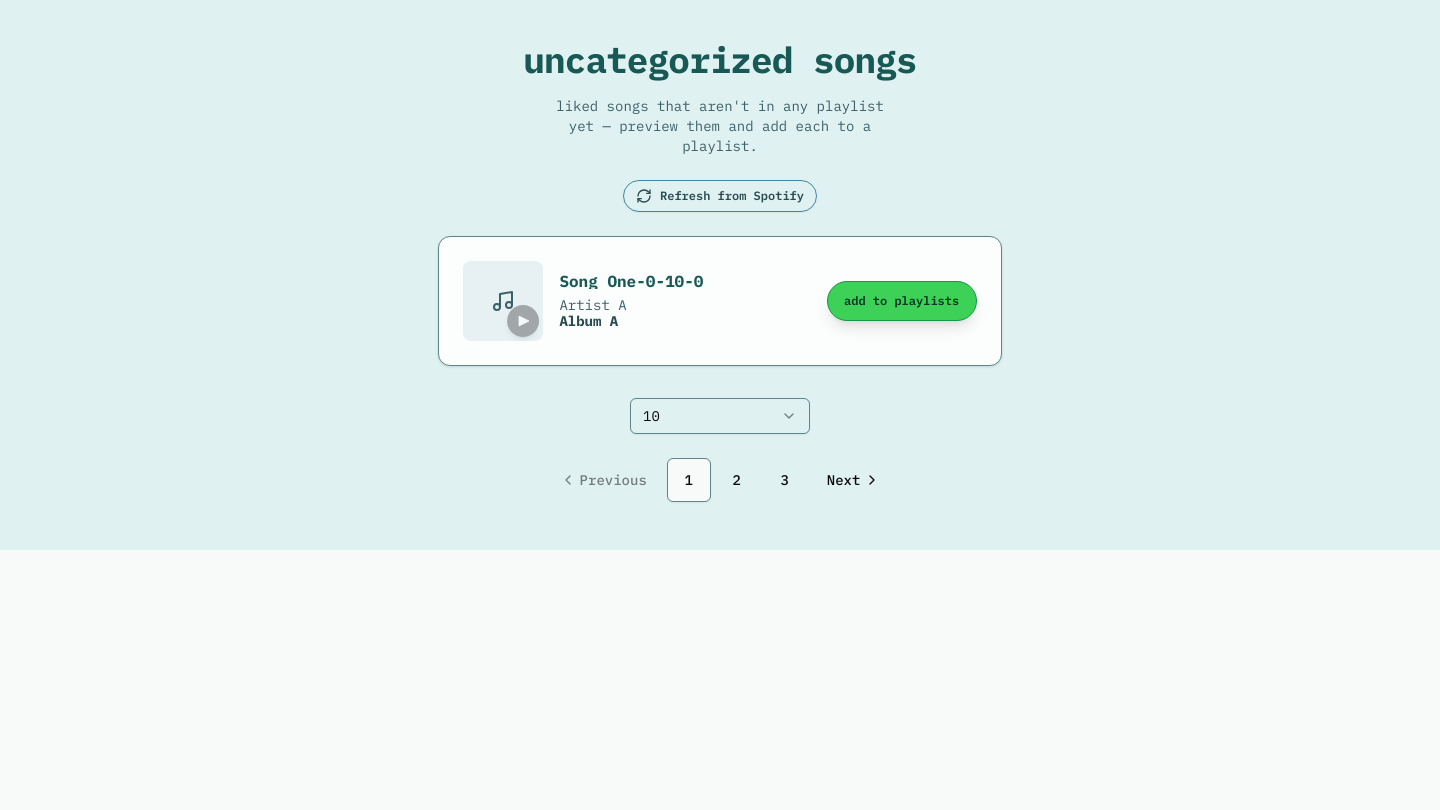
Test: Organize page › refresh from Spotify control › shows in-progress state and blocks a second click while refreshing
Check: the heading "Song One-0-10-0" is shown, box [559, 273, 703, 289]
Click the button "Refresh from Spotify": (720, 196) [623, 180, 817, 212]
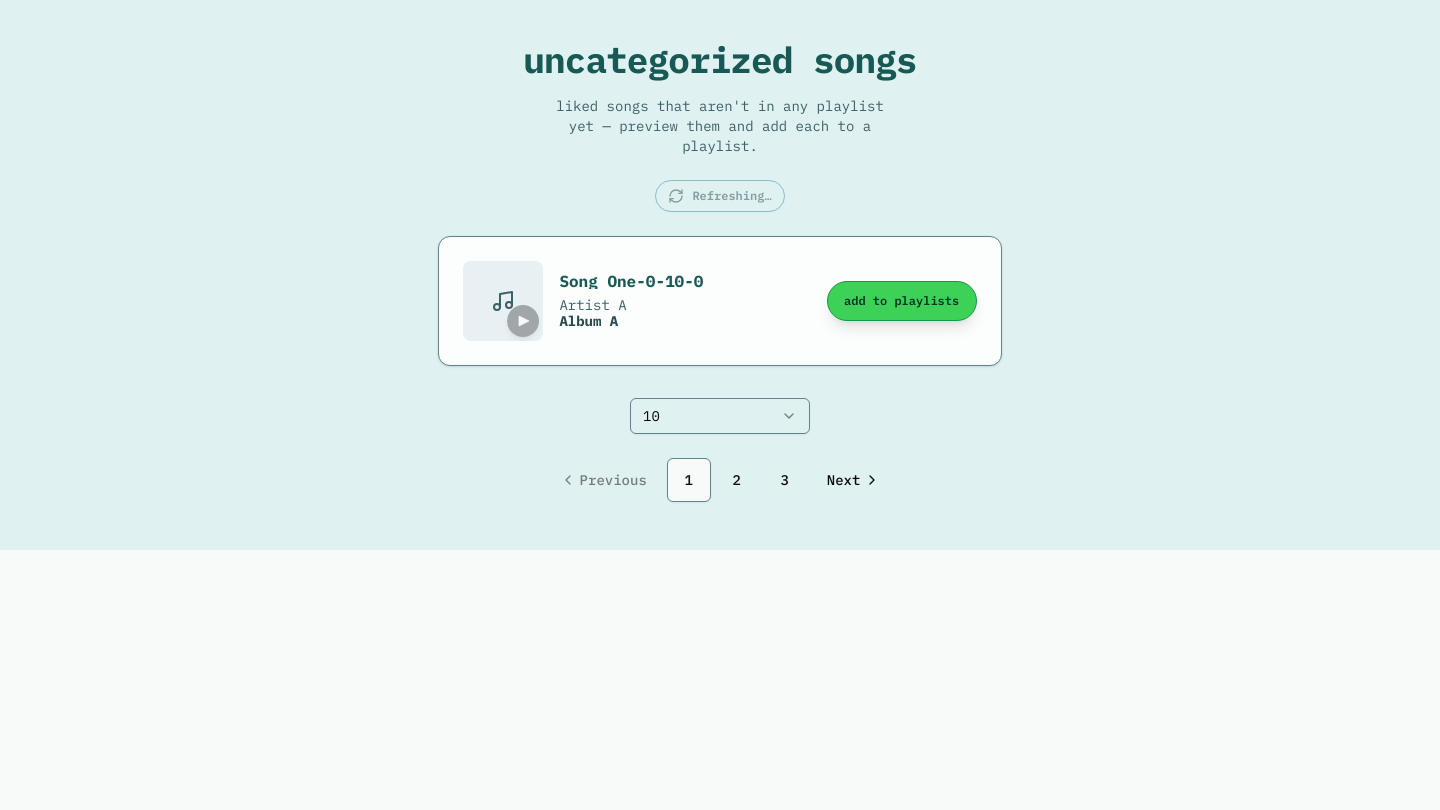
Check: the button "Refreshing…" is disabled
Click the button "Refreshing…": (720, 196) [655, 180, 785, 212]
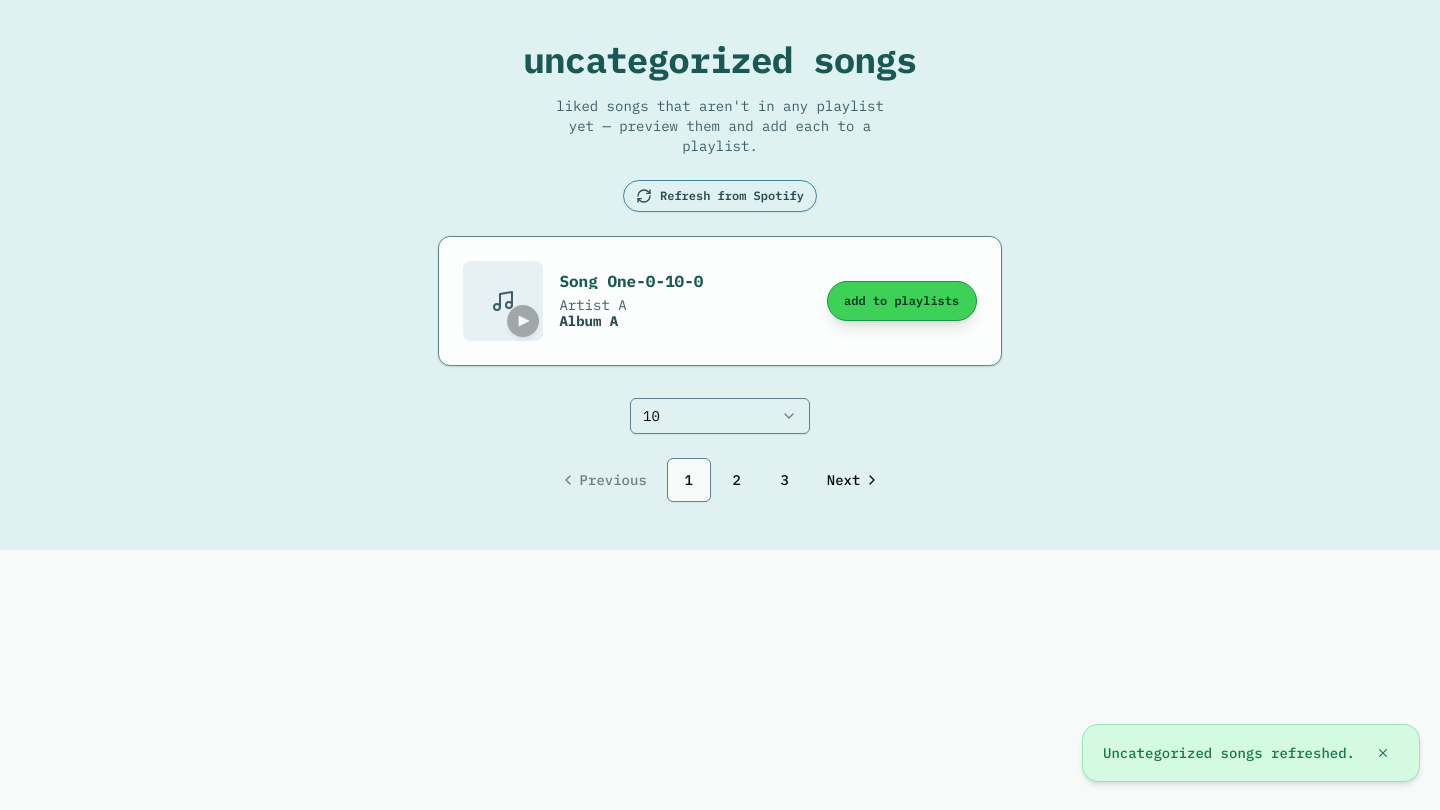
Check: the button "Refresh from Spotify" is enabled, box [623, 180, 817, 212]
